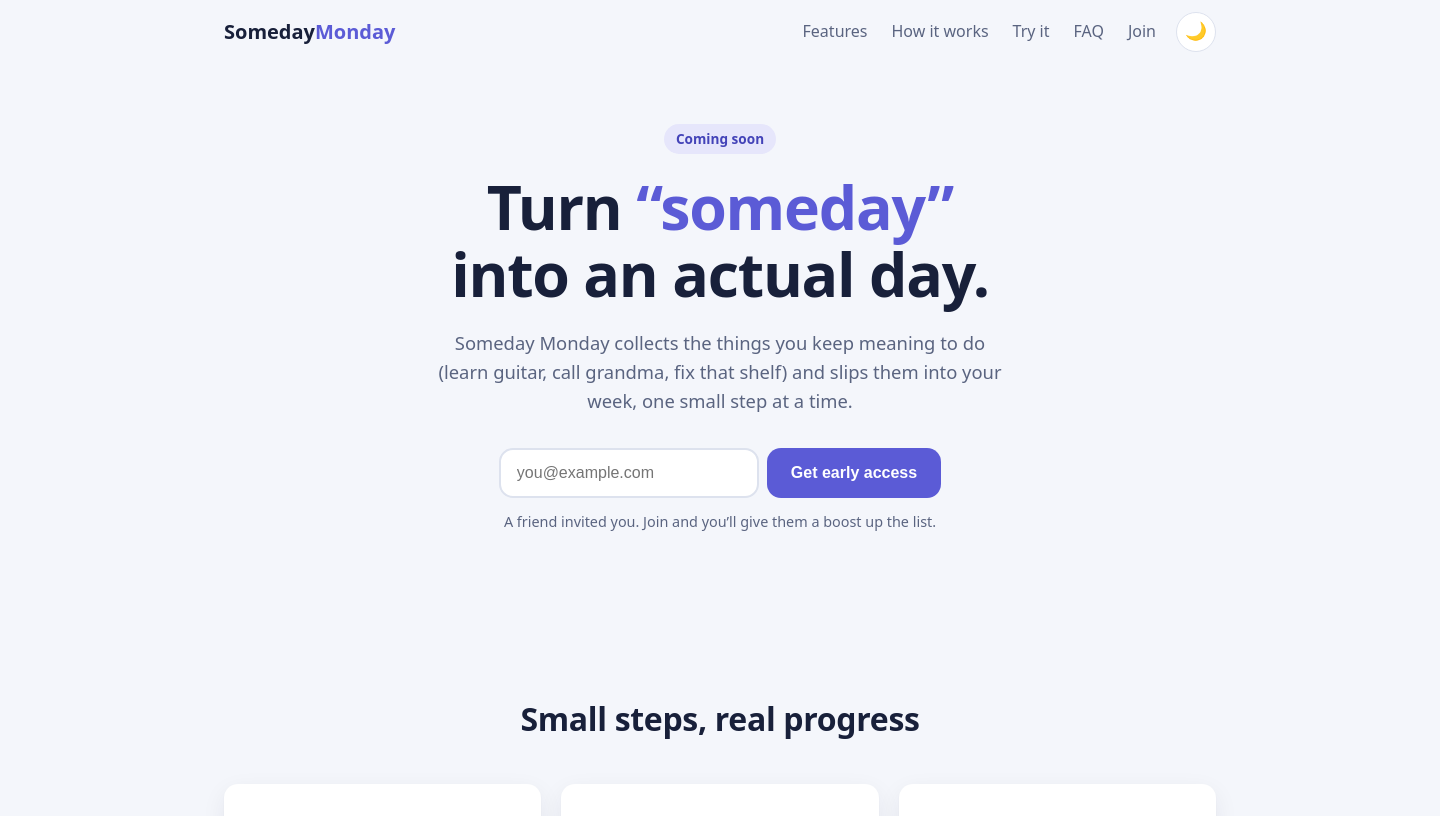
it: referral link › sends the ref code from a shared link and says a friend invited you
Check: the text "A friend invited you. Join and you’ll give them a boost up the list." is shown, box x1=504 y1=512 x2=936 y2=531
Type "pal@example.com" into the field named "Email address" at coordinates (629, 473), box x1=499 y1=448 x2=759 y2=498
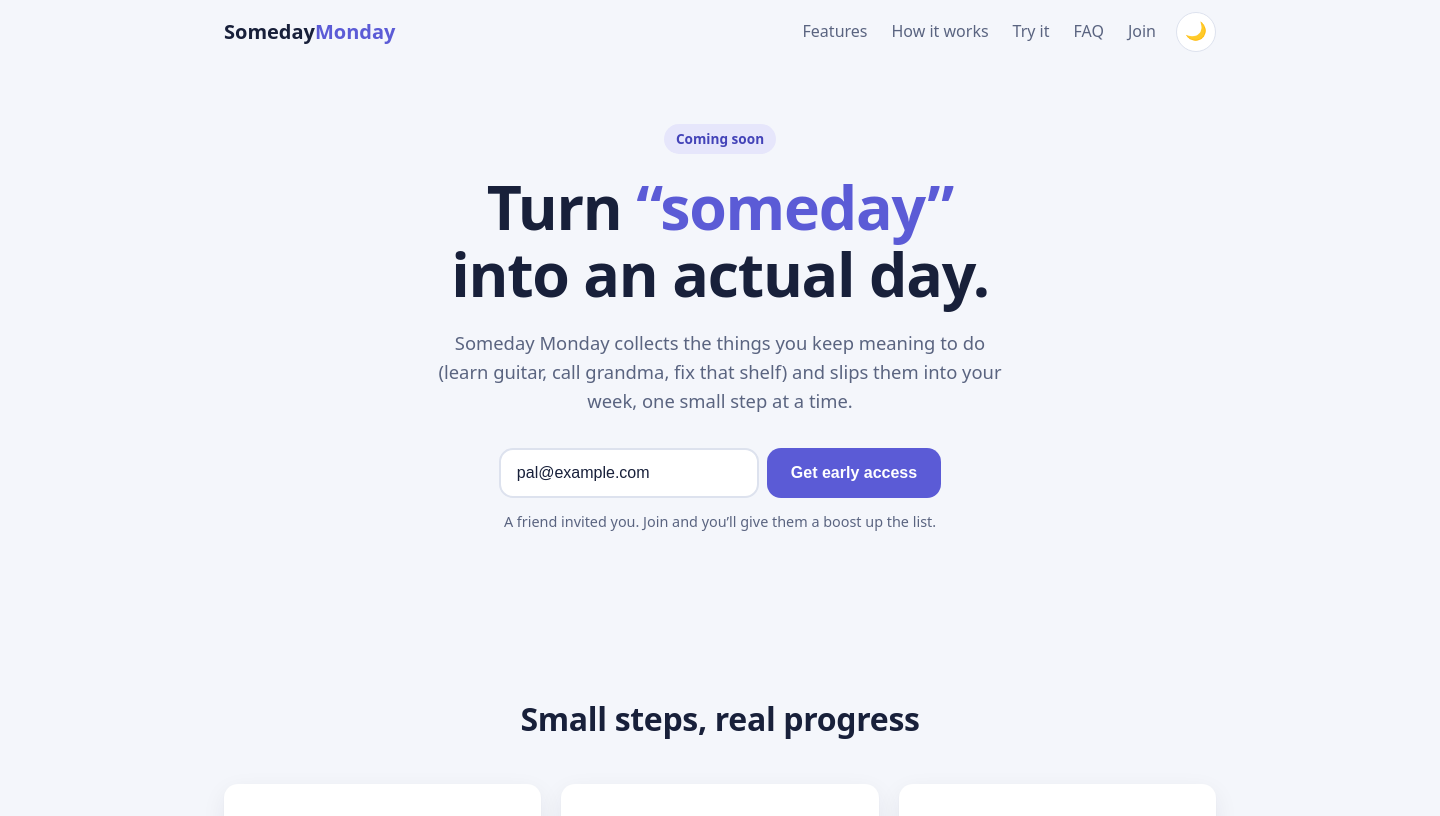
Click the button "Get early access" at coordinates (854, 473), box x1=767 y1=448 x2=941 y2=498
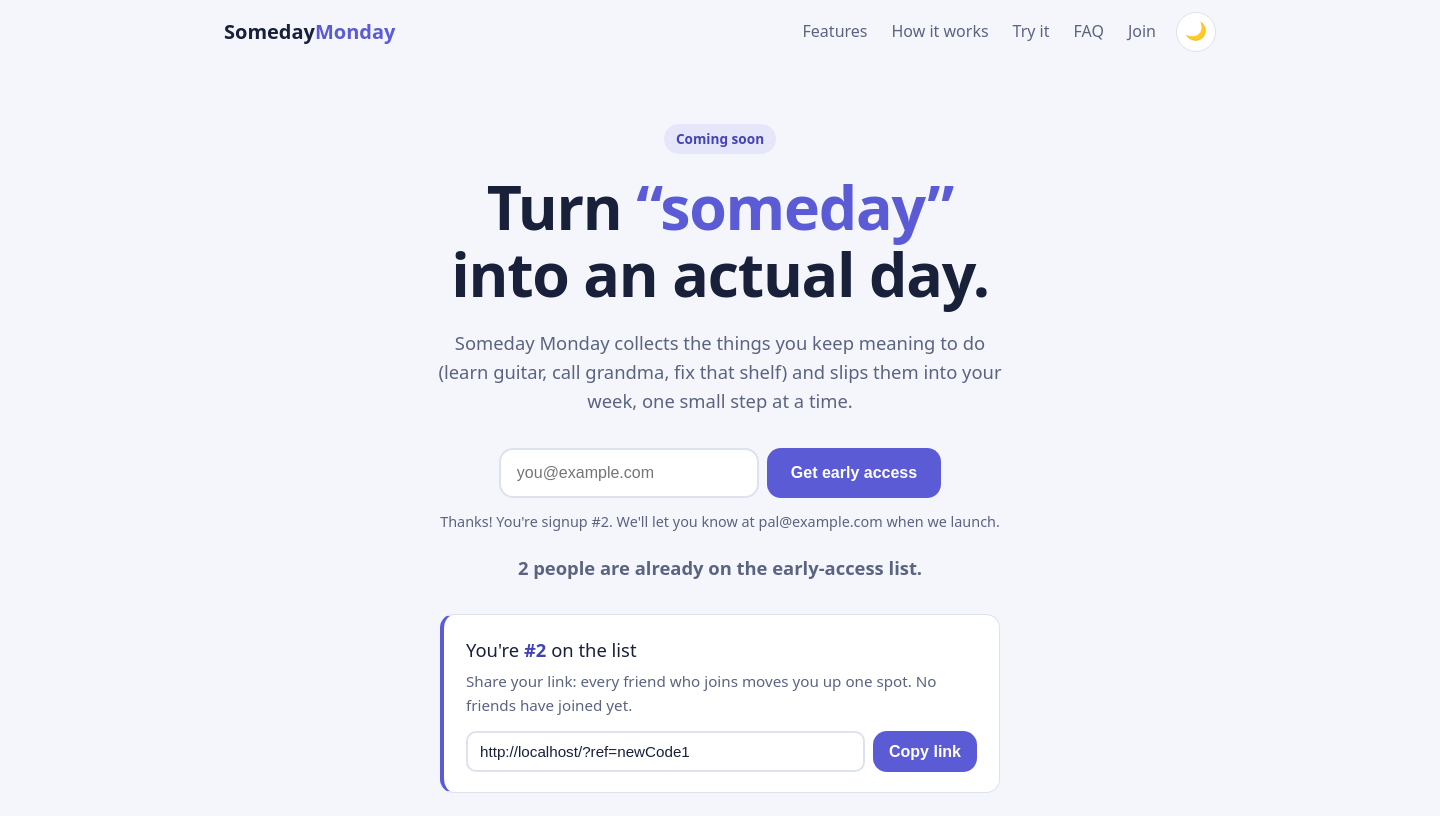
Check: the text "You're #2 on the list" is shown, box x1=466 y1=637 x2=636 y2=662
